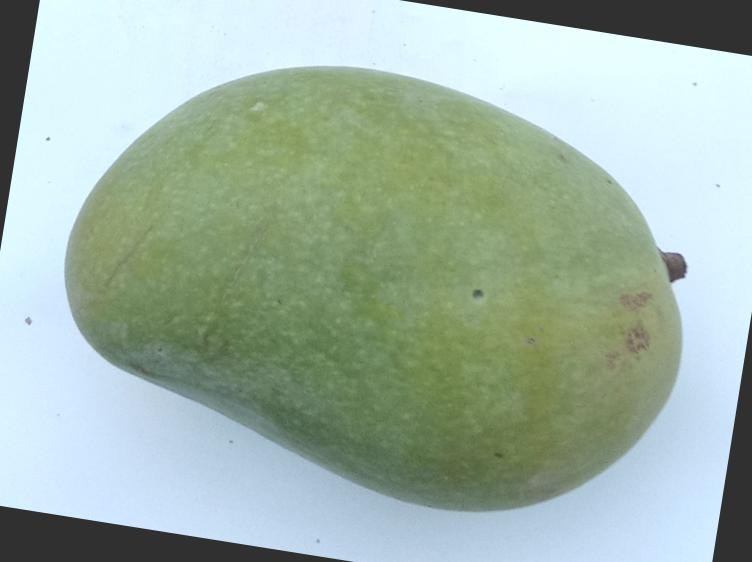Mango Unripe: (20, 0, 728, 535)
